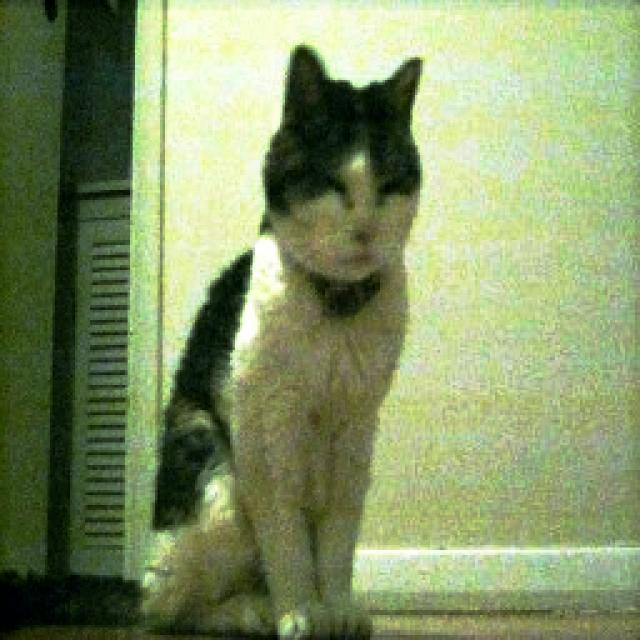cat: (148, 41, 427, 640)
